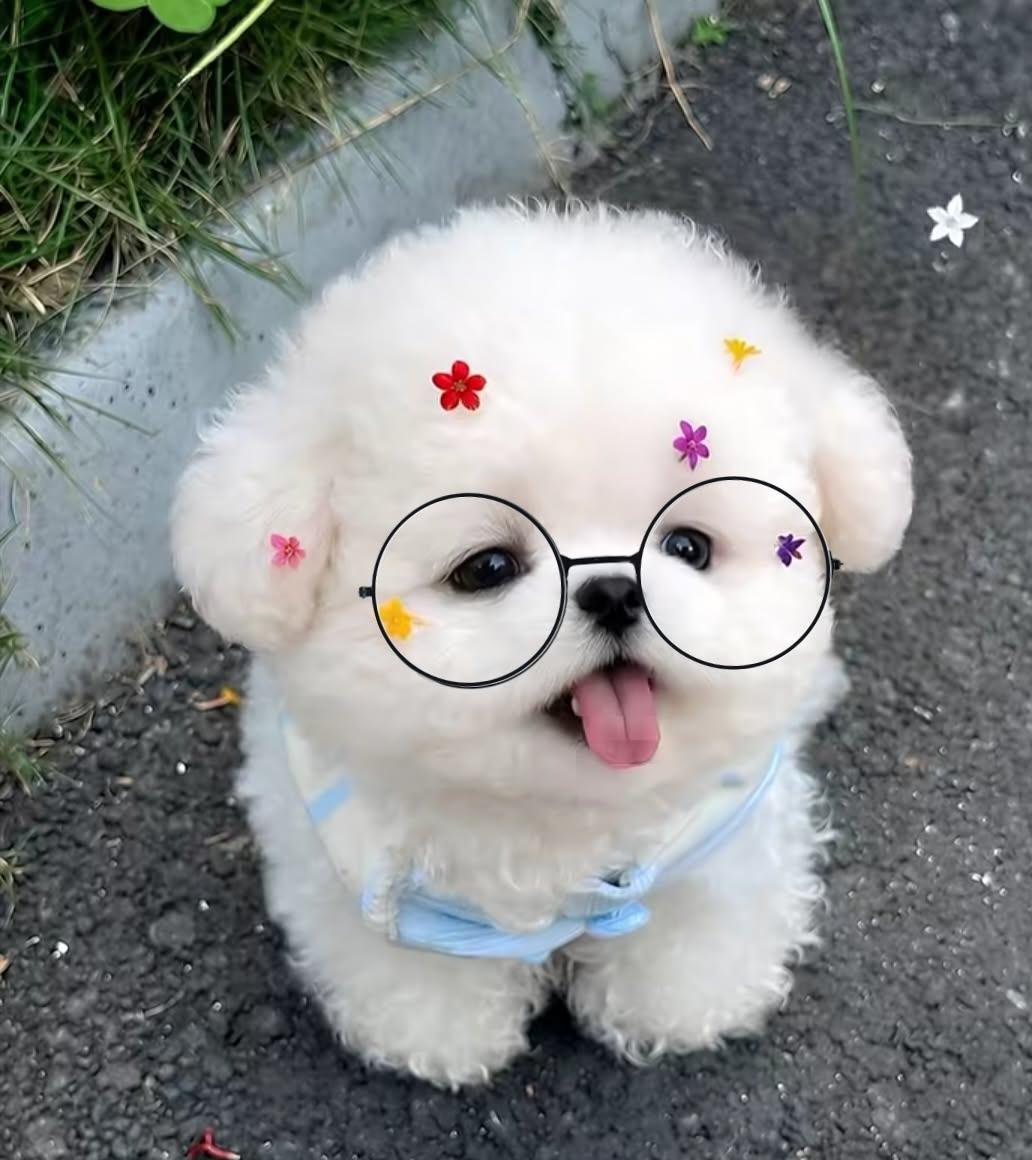puppy-dog: (161, 196, 921, 1093)
